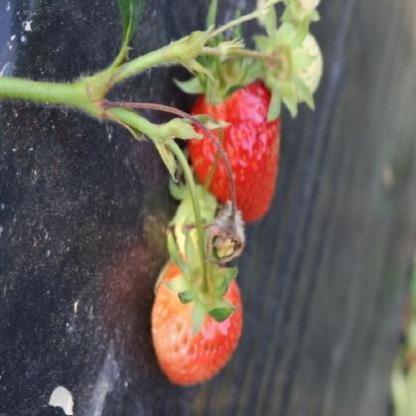Strawberry_Gray_Mold: (181, 192, 246, 264)
